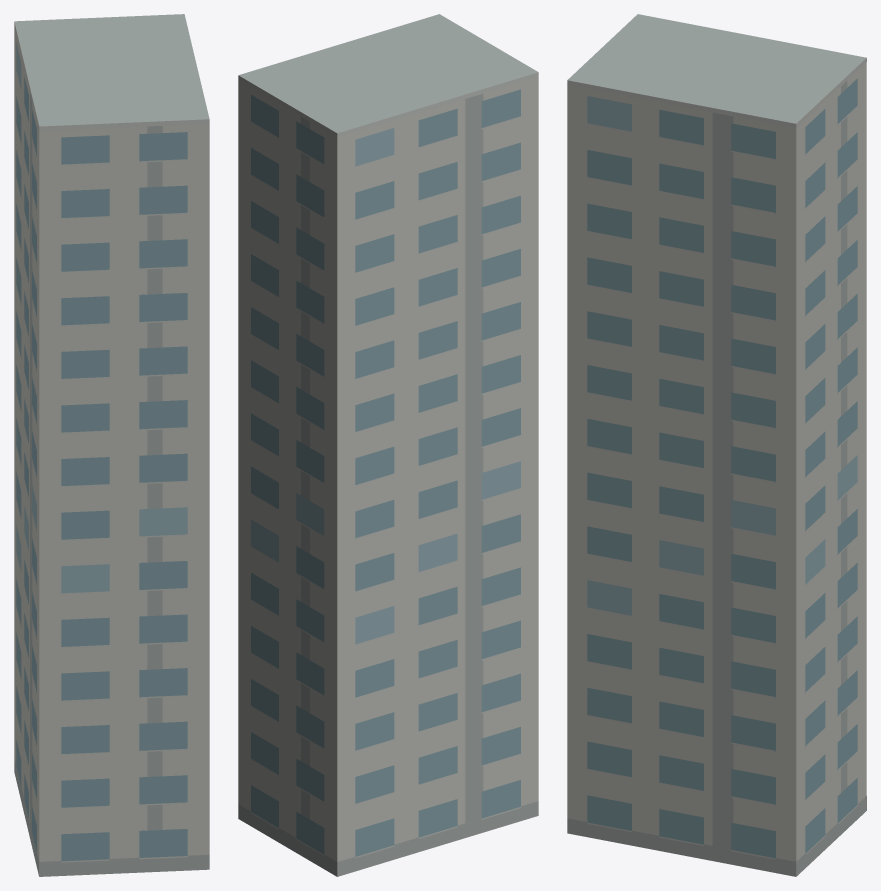
File: residential-aafe21fb-a64a-4554-a9fd-0caed3fba2ac.glb
The picture shows the model from 3 angles, left to right: view 1: azimuth 30°, elevation 25°; view 2: azimuth 150°, elevation 25°; view 3: azimuth 270°, elevation 25°; orthographic projection.
Visible parts, largest first — view 1: residential-aafe21fb-a64a-4554-a9fd-0caed3fba2ac.tmp; view 2: residential-aafe21fb-a64a-4554-a9fd-0caed3fba2ac.tmp; view 3: residential-aafe21fb-a64a-4554-a9fd-0caed3fba2ac.tmp.
Part boxes in pixels (box(x1,y1,x2,y2)): residential-aafe21fb-a64a-4554-a9fd-0caed3fba2ac.tmp: box(14, 14, 209, 876); residential-aafe21fb-a64a-4554-a9fd-0caed3fba2ac.tmp: box(238, 14, 538, 876); residential-aafe21fb-a64a-4554-a9fd-0caed3fba2ac.tmp: box(567, 14, 866, 876).
Bounding box in the file's own units: 12.52 × 40 × 14.43.
